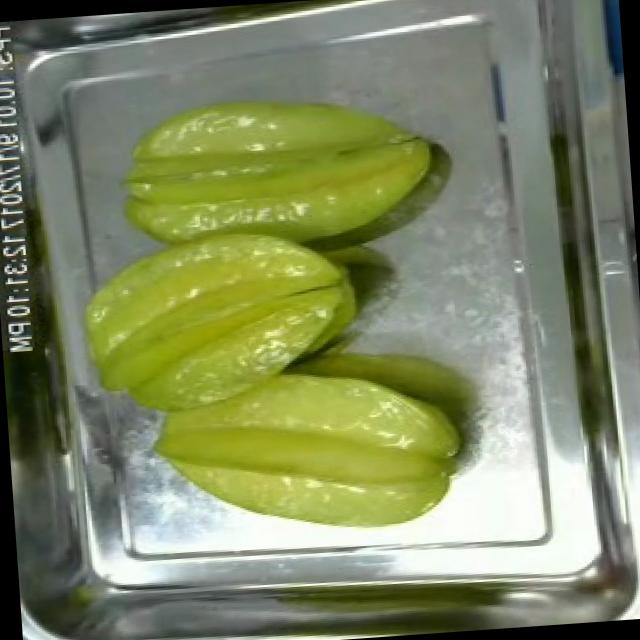fruit: (58, 91, 382, 451), (140, 344, 483, 550)
